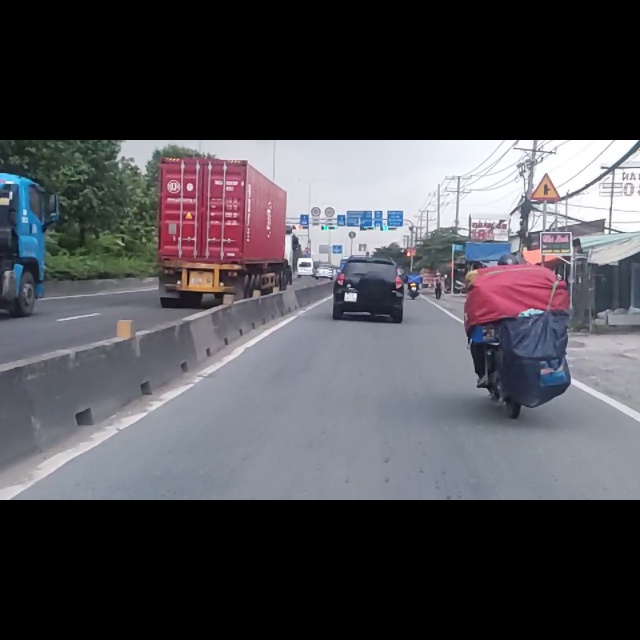bien_nguy_hiem: (531, 58, 560, 105), (325, 119, 335, 136)
